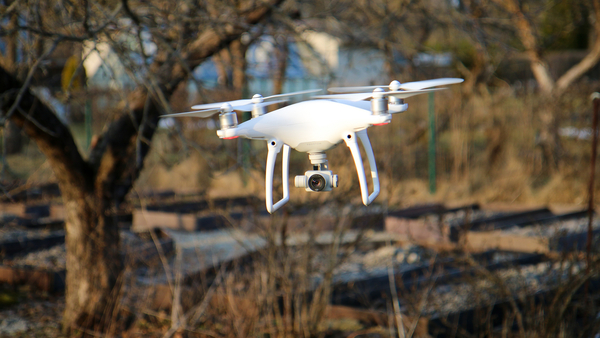drone: (158, 77, 464, 215)
